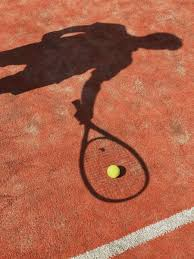tennis_ball: (107, 164, 121, 178)
